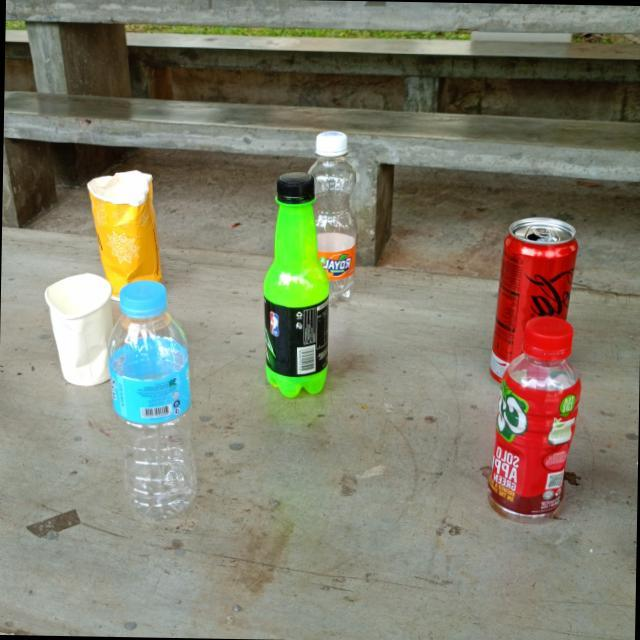recyclable waste: (104, 264, 214, 526), (479, 304, 587, 528), (242, 168, 340, 400), (476, 212, 589, 390), (78, 162, 179, 302), (294, 124, 371, 304), (34, 260, 120, 410)
